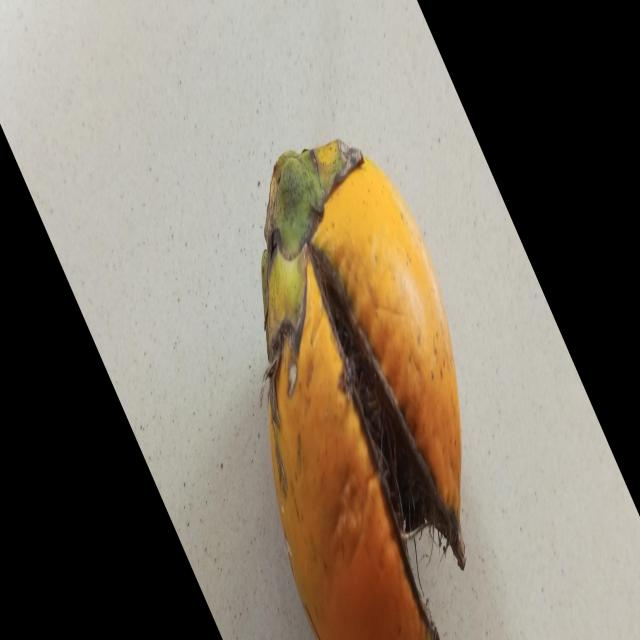damaged: (262, 141, 464, 640)
